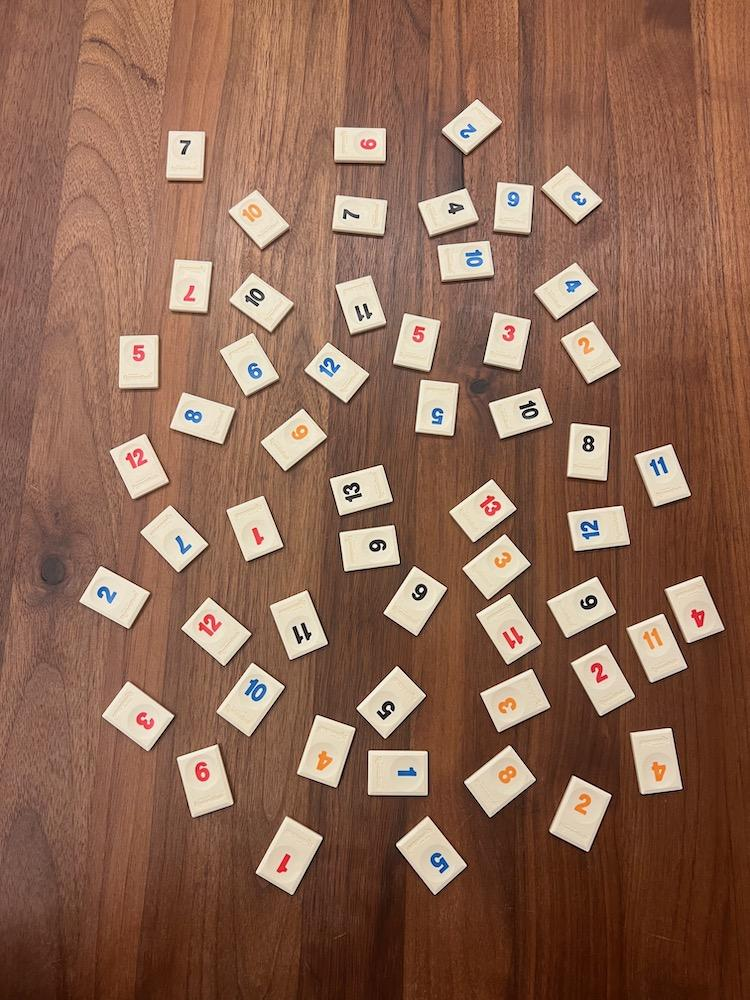black_10: (230, 273, 293, 332), (490, 389, 553, 439)
black_11: (270, 590, 328, 660), (336, 275, 387, 334)
black_13: (330, 465, 393, 516)
black_4: (418, 189, 479, 236)
black_5: (357, 666, 426, 738)
black_6: (340, 525, 400, 572)
black_7: (334, 195, 386, 236), (166, 132, 205, 182)
black_8: (567, 424, 607, 479)
black_9: (385, 566, 447, 635), (547, 576, 615, 637)
blue_1: (369, 751, 428, 795)
blue_10: (218, 662, 285, 736), (438, 240, 494, 281)
blue_11: (635, 445, 691, 506)
blue_12: (305, 344, 369, 402), (569, 506, 631, 551)
blue_2: (81, 566, 150, 629), (441, 100, 502, 154)
blue_3: (541, 166, 602, 221)
blue_4: (535, 264, 598, 318)
blue_5: (398, 816, 467, 895), (416, 381, 459, 436)
blue_7: (141, 506, 207, 572)
blue_8: (170, 393, 234, 443)
blue_9: (221, 334, 279, 396), (494, 182, 533, 234)
orange_10: (229, 189, 289, 248)
orange_11: (628, 613, 688, 682)
orange_2: (549, 775, 611, 852), (561, 322, 619, 383)
orange_3: (480, 670, 551, 732), (465, 535, 531, 600)
orange_4: (297, 715, 355, 787), (632, 729, 682, 794)
orange_8: (466, 746, 535, 816)
orange_9: (262, 410, 326, 471)
red_1: (256, 816, 322, 895), (227, 496, 283, 561)
red_11: (478, 594, 541, 664)
red_12: (182, 598, 250, 666), (109, 434, 168, 498)
red_13: (449, 480, 516, 541)
red_2: (572, 645, 635, 715)
red_3: (102, 682, 174, 750), (486, 312, 531, 371)
red_4: (664, 576, 725, 643)
red_5: (393, 314, 439, 371), (119, 336, 158, 389)
red_6: (178, 744, 234, 818)
red_7: (170, 260, 213, 314)
red_9: (337, 127, 386, 164)
